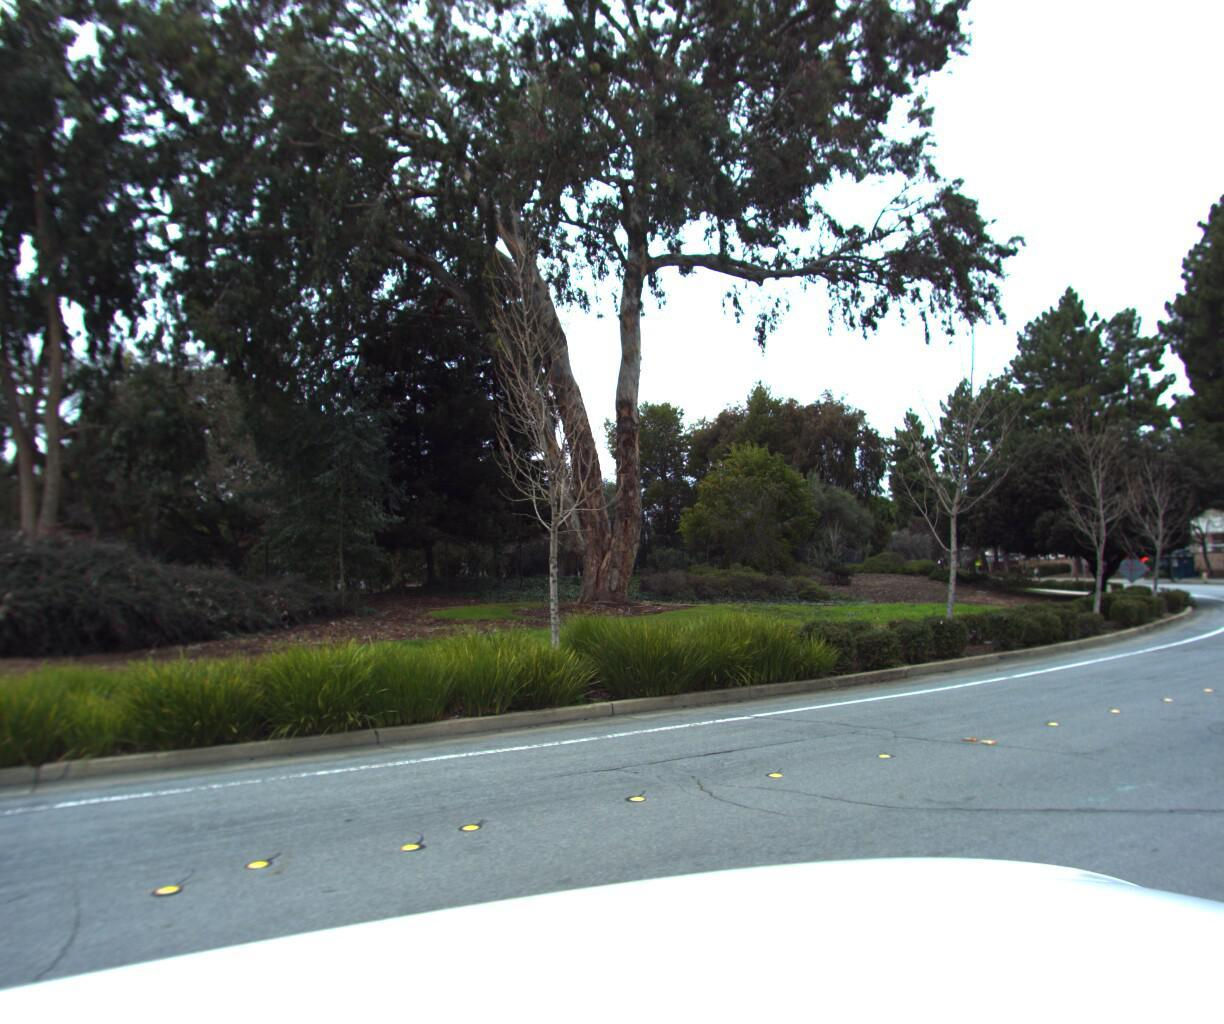truck: (1220, 521, 1224, 584)
